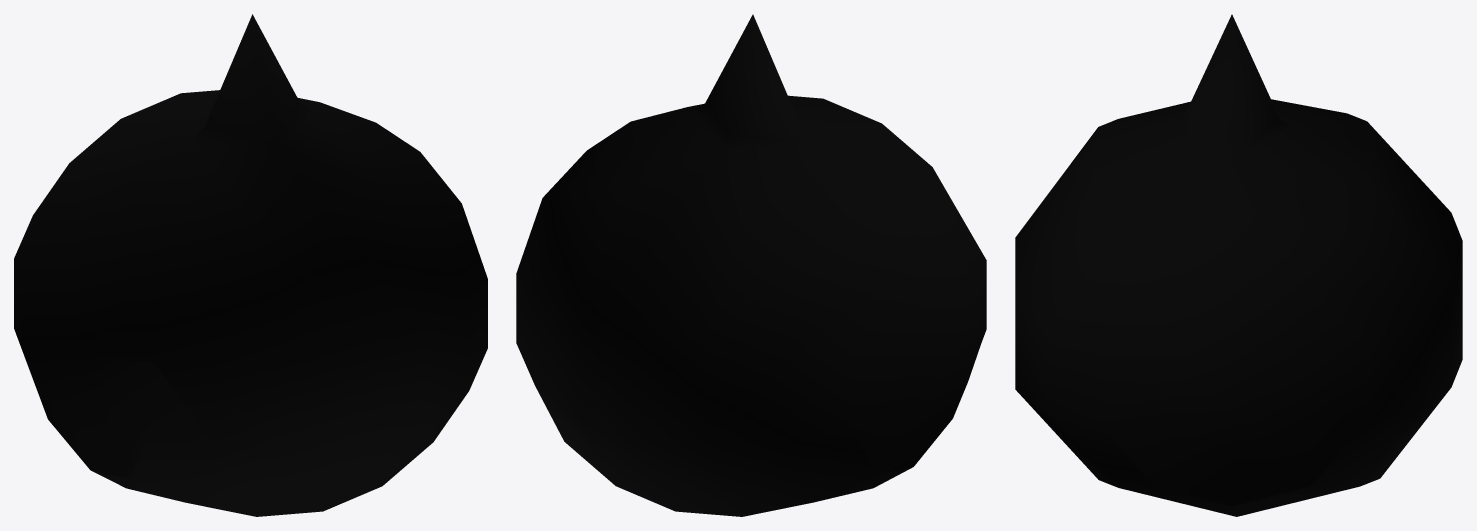
The model's file is progress.ico.obj.
3 renders of one model, left to right at view 1: azimuth 30°, elevation 25°; view 2: azimuth 150°, elevation 25°; view 3: azimuth 270°, elevation 25°, orthographic.
Size of the model in its own units: 3.41 by 3.84 by 3.25.
1 material, 1 textured.
